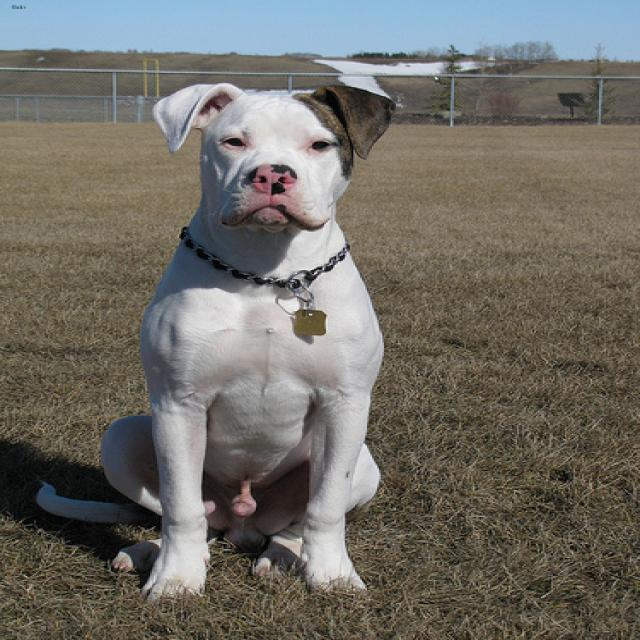dog-american_bulldog: (24, 74, 410, 613)
